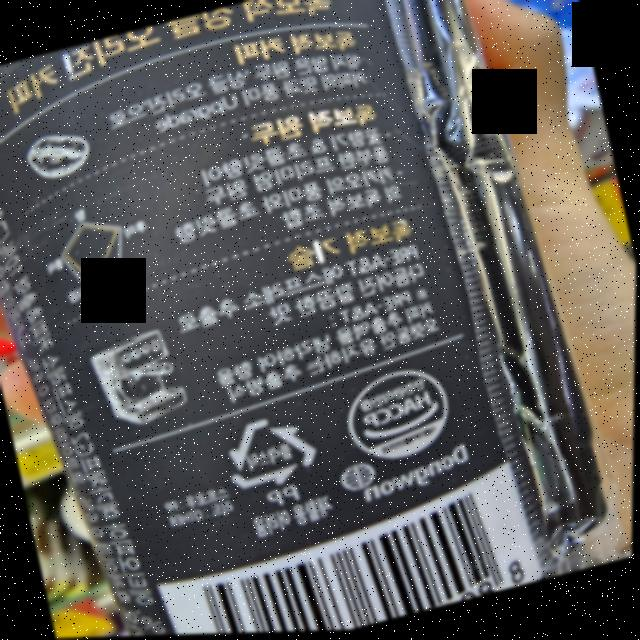Plastic: (218, 402, 327, 499)
